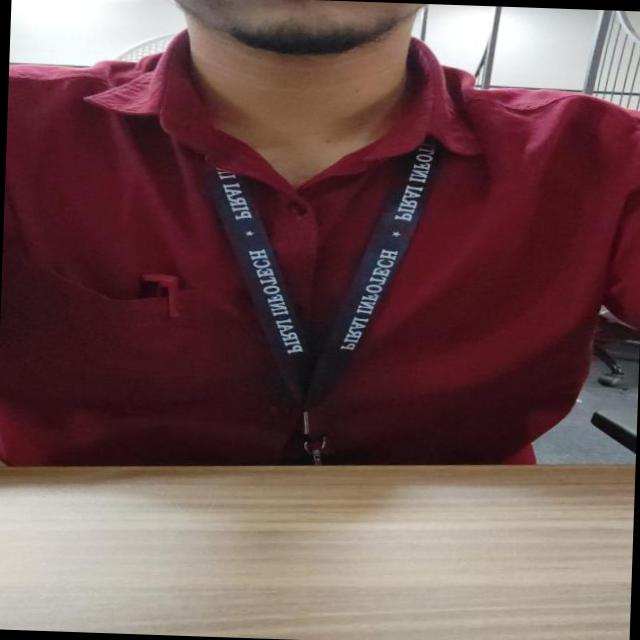id_card: (186, 138, 444, 476)
